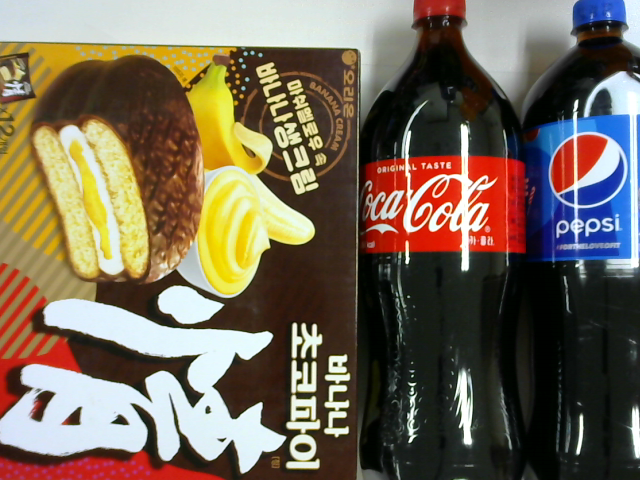Choco_Pie_Banana: (1, 30, 371, 473)
Coca_Cola_1.5L: (350, 12, 546, 480)
Pepsi_Cola_1.5L: (522, 8, 640, 478)
